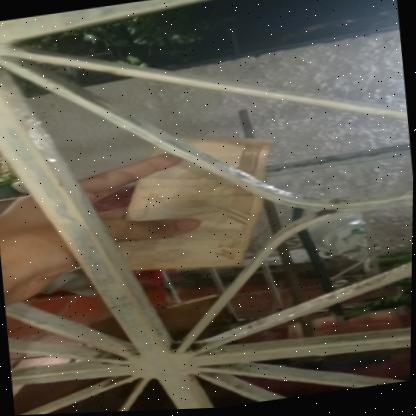five-back-vef: (105, 126, 286, 282)
